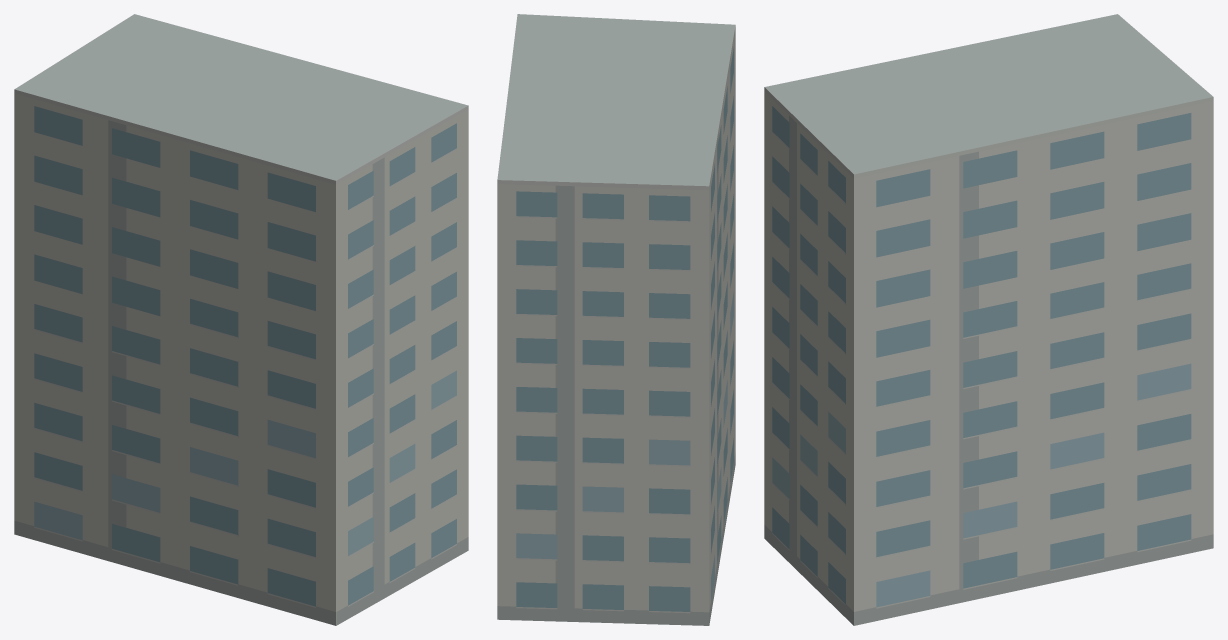
Rendered from residential-e4d9e9dc-db22-4b31-b72e-ce7ad4b86273.glb.
3 renders of one model, left to right at view 1: azimuth 30°, elevation 25°; view 2: azimuth 150°, elevation 25°; view 3: azimuth 270°, elevation 25°, orthographic. The views are drawn at different scales.
Visible parts, largest first — view 1: residential-e4d9e9dc-db22-4b31-b72e-ce7ad4b86273.tmp; view 2: residential-e4d9e9dc-db22-4b31-b72e-ce7ad4b86273.tmp; view 3: residential-e4d9e9dc-db22-4b31-b72e-ce7ad4b86273.tmp.
Boxes of the visible parts, box(x1,y1,x2,y2) form: residential-e4d9e9dc-db22-4b31-b72e-ce7ad4b86273.tmp: box(14, 14, 468, 625); residential-e4d9e9dc-db22-4b31-b72e-ce7ad4b86273.tmp: box(497, 14, 735, 625); residential-e4d9e9dc-db22-4b31-b72e-ce7ad4b86273.tmp: box(764, 14, 1213, 625).
Bounding box in the file's own units: 20.59 × 27 × 24.36.
